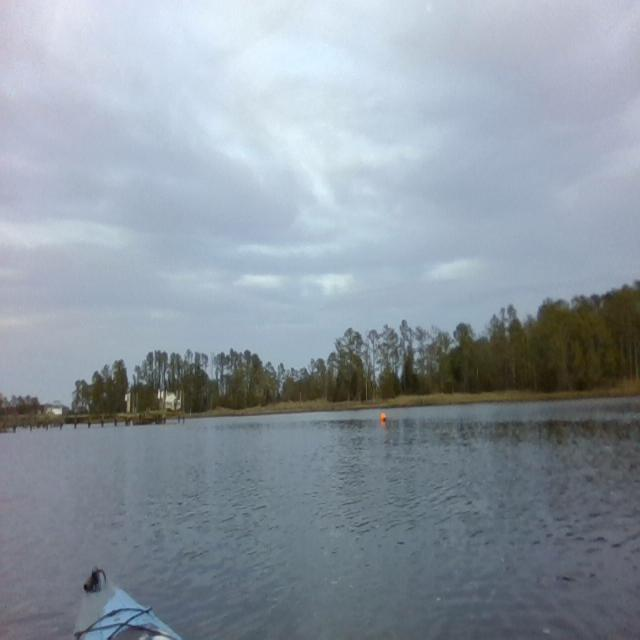Buoy: (380, 410, 388, 424)
